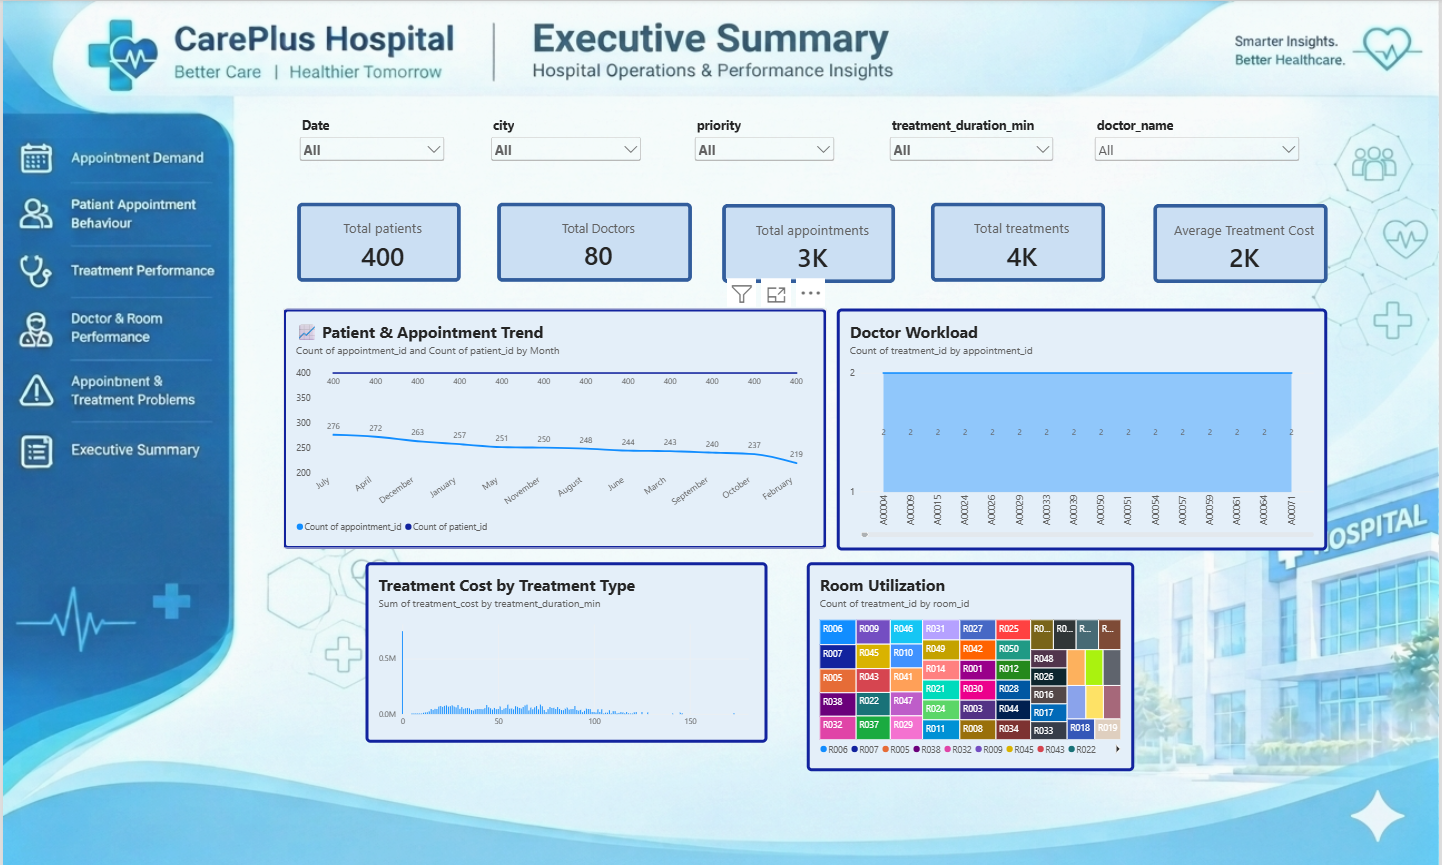

Layout of this report page (visuals, bound fields, positions):
{"tool":"powerbi","page":{"name":"Executive Summary","canvas":[2300,1400],"ordinal":5},"visuals":[{"type":"cardVisual","fields":{"Data":["_KPI Measures.Total patients"]},"box":[469.6,321.7,263,128.3],"z":0},{"type":"cardVisual","fields":{"Data":["_KPI Measures.Total Doctors"]},"box":[789.1,321.7,313,128.3],"z":1},{"type":"cardVisual","fields":{"Data":["_KPI Measures.Total appointments"]},"box":[1150,323.9,278.3,128.3],"z":2},{"type":"cardVisual","fields":{"Data":["_KPI Measures.Total treatments"]},"box":[1484.8,321.7,280.4,128.3],"z":3},{"type":"lineChart","title":"📈 Patient & Appointment Trend","fields":{"Category":["date_table.Month"],"Y":["CountNonNull(appointments.appointment_id)","CountNonNull(patients.patient_id)"]},"box":[447.8,491.3,869.6,384.8],"z":4},{"type":"stackedAreaChart","title":"Doctor Workload","fields":{"Category":["appointments.appointment_id"],"Y":["CountNonNull(treatments.treatment_id)"]},"box":[1334.8,491.3,784.8,387],"z":5},{"type":"clusteredColumnChart","title":"Treatment Cost by Treatment Type","fields":{"Category":["treatments.treatment_duration_min"],"Y":["Sum(treatments.treatment_cost)"]},"box":[580.4,897.8,643.5,289.1],"z":6},{"type":"treemap","title":"Room Utilization","fields":{"Group":["rooms.room_id"],"Values":["CountNonNull(treatments.treatment_id)"]},"box":[1287,897.8,523.9,334.8],"z":7},{"type":"slicer","fields":{"Values":["date_table.Date"]},"box":[469.6,184.8,241.3,115.2],"z":8},{"type":"slicer","fields":{"Values":["patients.city"]},"box":[776.1,184.8,250,115.2],"z":9},{"type":"slicer","fields":{"Values":["treatments.treatment_duration_min"]},"box":[1413,184.8,271.7,115.2],"z":10},{"type":"slicer","fields":{"Values":["appointments.priority"]},"box":[1102.2,184.8,232.6,115.2],"z":11},{"type":"slicer","title":"Doctor Performance Over Time","fields":{"Values":["doctors.doctor_name"]},"box":[1741.3,184.8,337,115.2],"z":13},{"type":"cardVisual","fields":{"Data":["_KPI Measures.Average Treatment Cost"]},"box":[1839.1,323.9,280.4,128.3],"z":15}]}

Visuals, with their boxes on the page's 2300x1400 design canvas (x1, y1, x2, y2). These are canvas units, not pixel positions in the 1442x865 screenshot, which may show the page scaled, cropped or inside an application window:
cardVisual - _KPI Measures.Total patients: [x1=470, y1=322, x2=733, y2=450]
cardVisual - _KPI Measures.Total Doctors: [x1=789, y1=322, x2=1102, y2=450]
cardVisual - _KPI Measures.Total appointments: [x1=1150, y1=324, x2=1428, y2=452]
cardVisual - _KPI Measures.Total treatments: [x1=1485, y1=322, x2=1765, y2=450]
"📈 Patient & Appointment Trend" lineChart: [x1=448, y1=491, x2=1317, y2=876]
"Doctor Workload" stackedAreaChart: [x1=1335, y1=491, x2=2120, y2=878]
"Treatment Cost by Treatment Type" clusteredColumnChart: [x1=580, y1=898, x2=1224, y2=1187]
"Room Utilization" treemap: [x1=1287, y1=898, x2=1811, y2=1233]
slicer - date_table.Date: [x1=470, y1=185, x2=711, y2=300]
slicer - patients.city: [x1=776, y1=185, x2=1026, y2=300]
slicer - treatments.treatment_duration_min: [x1=1413, y1=185, x2=1685, y2=300]
slicer - appointments.priority: [x1=1102, y1=185, x2=1335, y2=300]
"Doctor Performance Over Time" slicer: [x1=1741, y1=185, x2=2078, y2=300]
cardVisual - _KPI Measures.Average Treatment Cost: [x1=1839, y1=324, x2=2120, y2=452]
